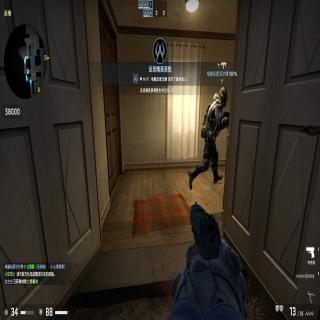CT-Body: (187, 87, 228, 190)
CT-Head: (218, 87, 227, 106)
